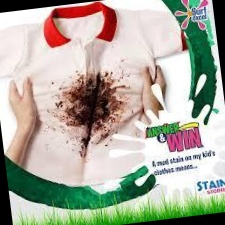earth: (64, 76, 118, 130)
